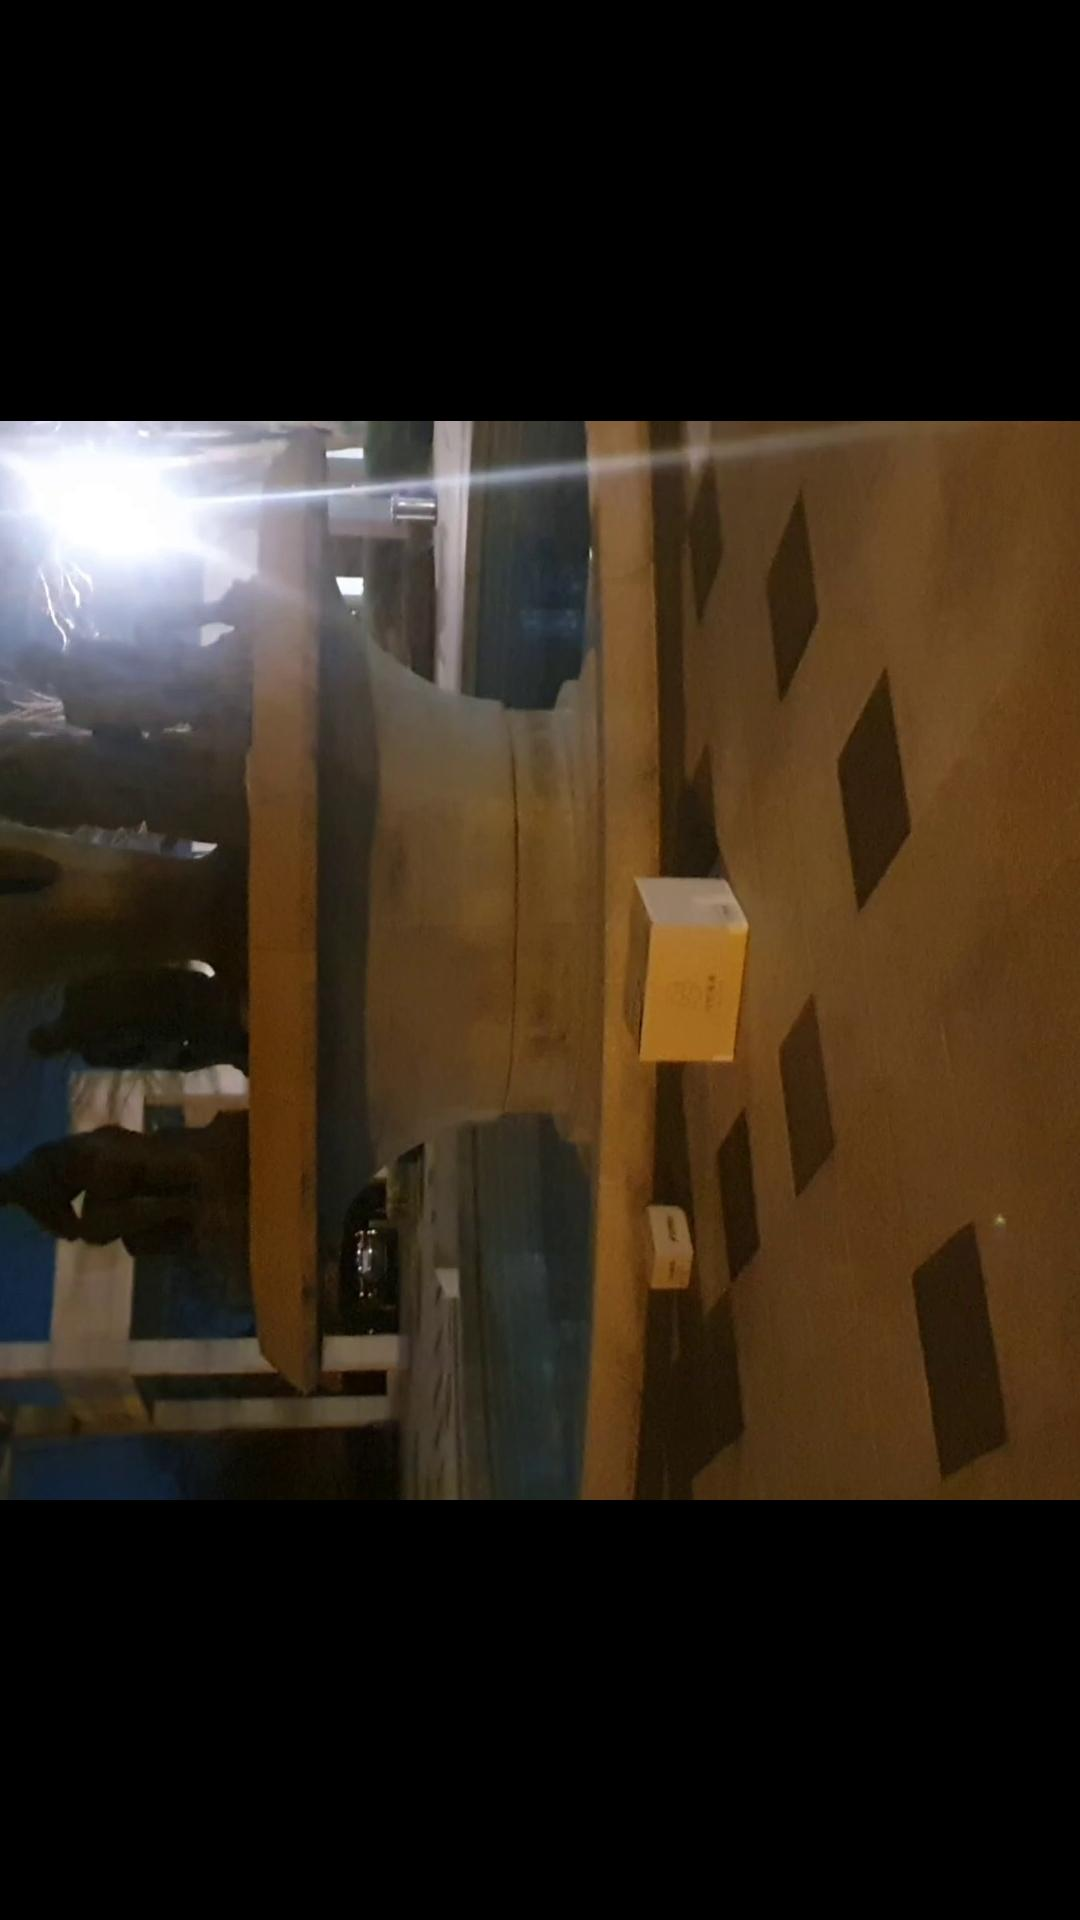Box: (611, 866, 752, 1064), (615, 1203, 695, 1307)
